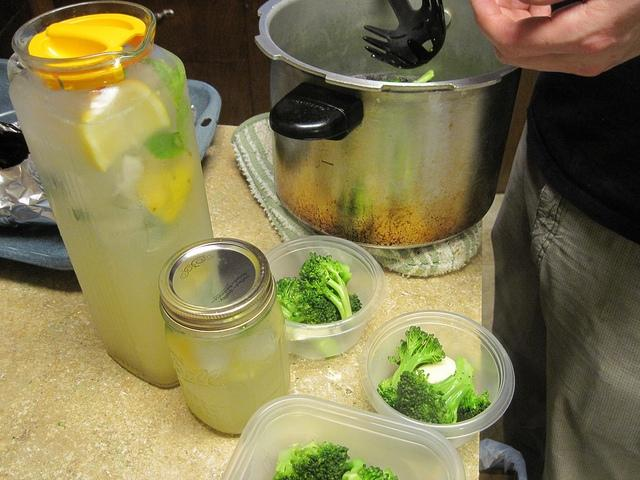broccoli: (397, 369, 472, 424), (388, 326, 446, 389), (300, 252, 352, 320), (272, 441, 351, 480), (454, 356, 492, 423), (288, 289, 342, 324), (276, 276, 302, 319), (357, 464, 389, 480)
lemon: (77, 79, 172, 173), (132, 152, 196, 225), (166, 332, 198, 372)
